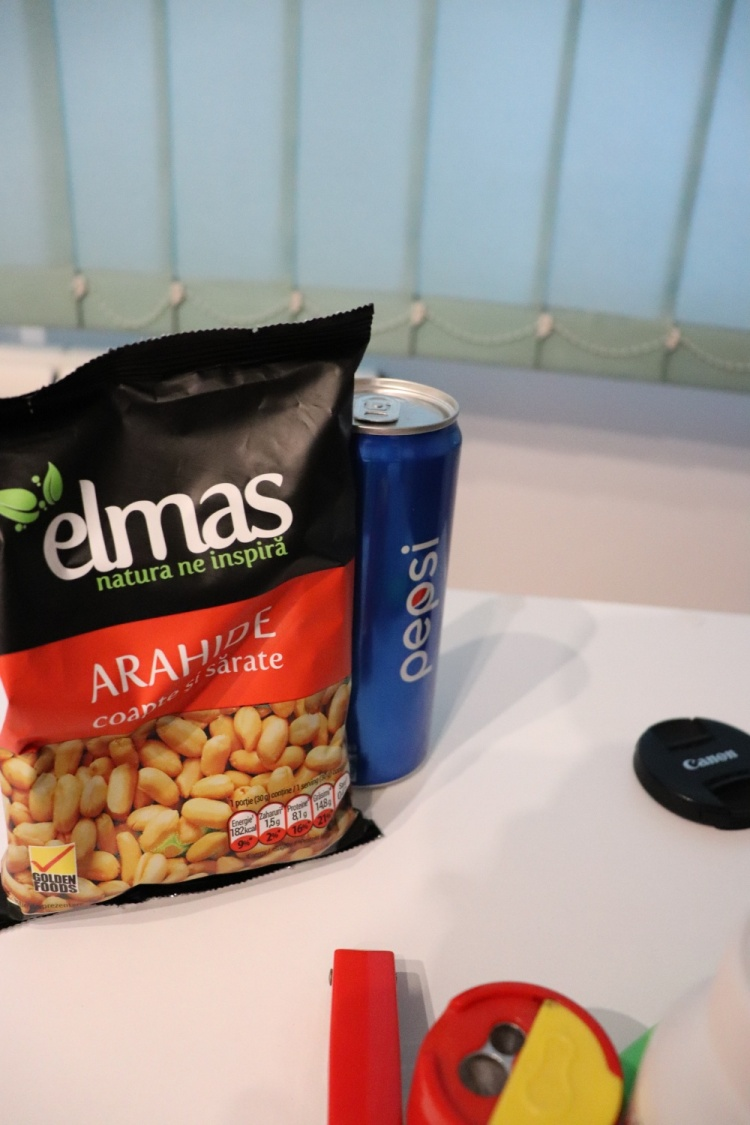peanuts: (3, 301, 375, 909)
pepsi: (347, 379, 469, 784)
